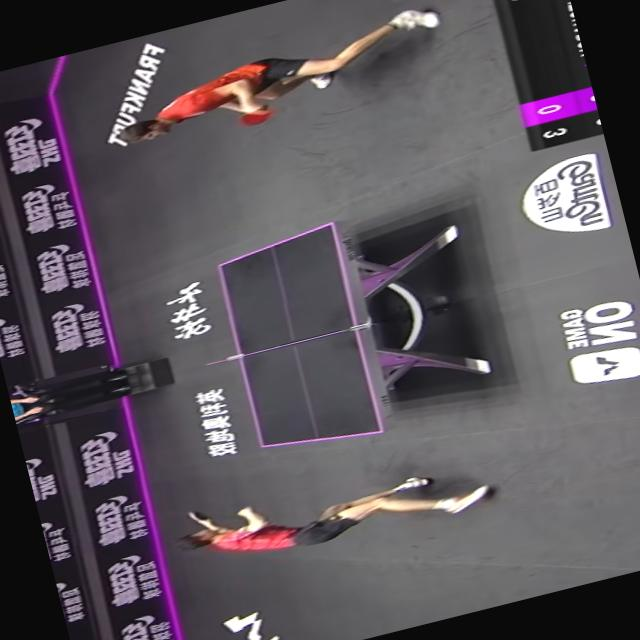TT Net: (202, 320, 370, 368)
TT Racket: (230, 106, 280, 127), (185, 501, 216, 529)
TT Table: (215, 220, 385, 459)
